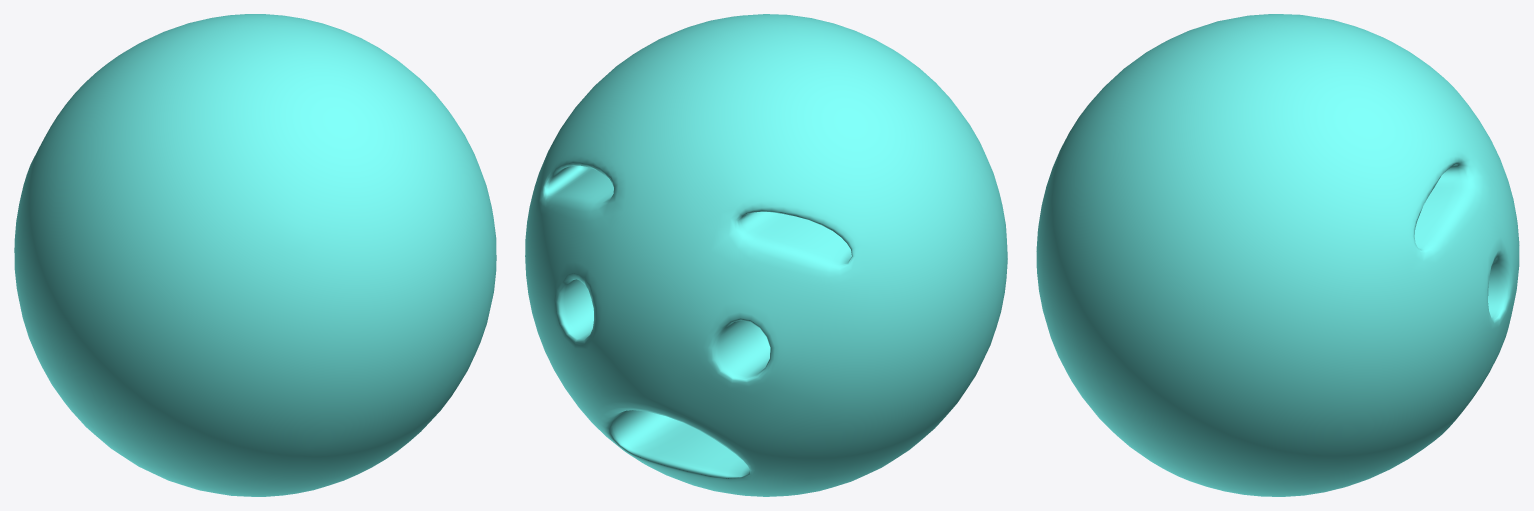
Rendered from emojis_surprised.fbx.
The picture shows the model from 3 angles, left to right: view 1: azimuth 30°, elevation 25°; view 2: azimuth 150°, elevation 25°; view 3: azimuth 270°, elevation 25°; orthographic projection.
Visible parts, largest first — view 1: Group40013; view 2: Group40013; view 3: Group40013.
Part boxes in pixels (bbox=[...]): Group40013: bbox=[14, 14, 496, 496]; Group40013: bbox=[525, 14, 1007, 496]; Group40013: bbox=[1036, 14, 1519, 496].
Size of the model in its own units: 4733 by 4727 by 4733.
